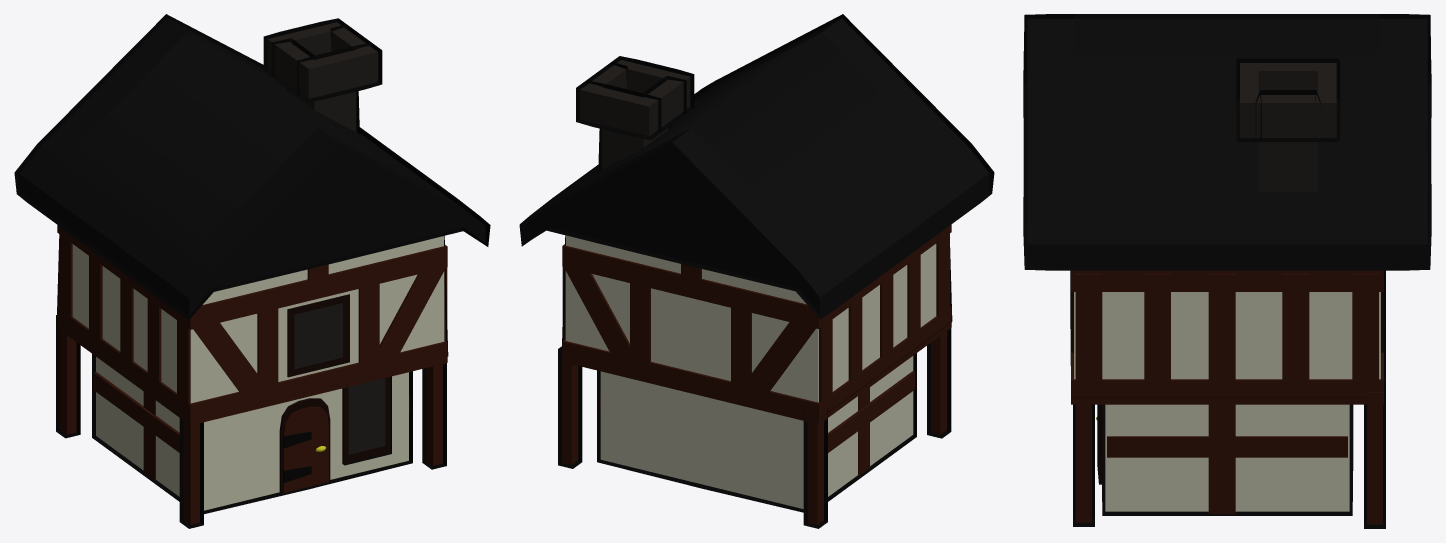
Rendered from House 1.FBX.
The picture shows the model from 3 angles, left to right: view 1: azimuth 30°, elevation 25°; view 2: azimuth 150°, elevation 25°; view 3: azimuth 270°, elevation 25°; orthographic projection. The views are drawn at different scales.
Visible parts, largest first — view 1: House; view 2: House; view 3: House.
Boxes of the visible parts, x1,y1,x2,y2 form: House: (14,14,490,528); House: (519,14,994,528); House: (1023,14,1431,528).
Bounding box in the file's own units: 26.98 × 31.62 × 26.55.
